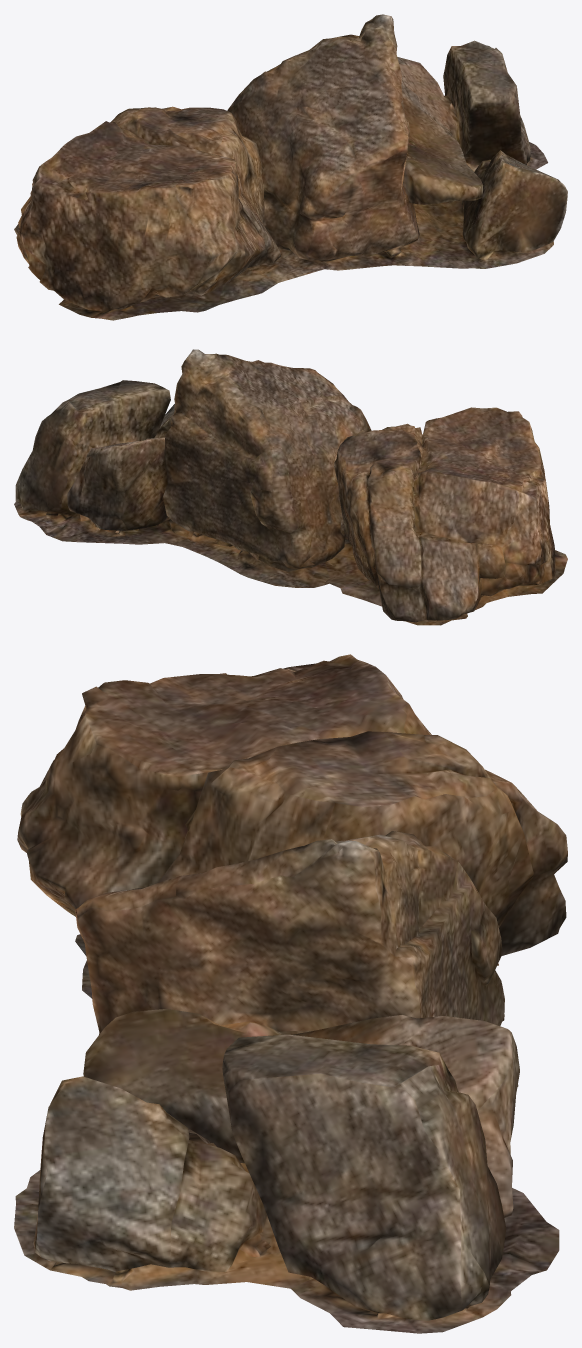
The model's file is namaqualand_boulder_02.glb.
The picture shows the model from 3 angles, top to bottom: view 1: azimuth 30°, elevation 25°; view 2: azimuth 150°, elevation 25°; view 3: azimuth 270°, elevation 25°; orthographic projection. The views are drawn at different scales.
Parts seen in each view (by area): view 1: boulder_02; view 2: boulder_02; view 3: boulder_02.
Part boxes in pixels (x1,y1,x2,y2): boulder_02: (14, 14, 567, 320); boulder_02: (14, 349, 567, 625); boulder_02: (14, 654, 567, 1333).
Bounding box in the file's own units: 2.52 × 0.8803 × 1.23.
1 material, 1 textured.
